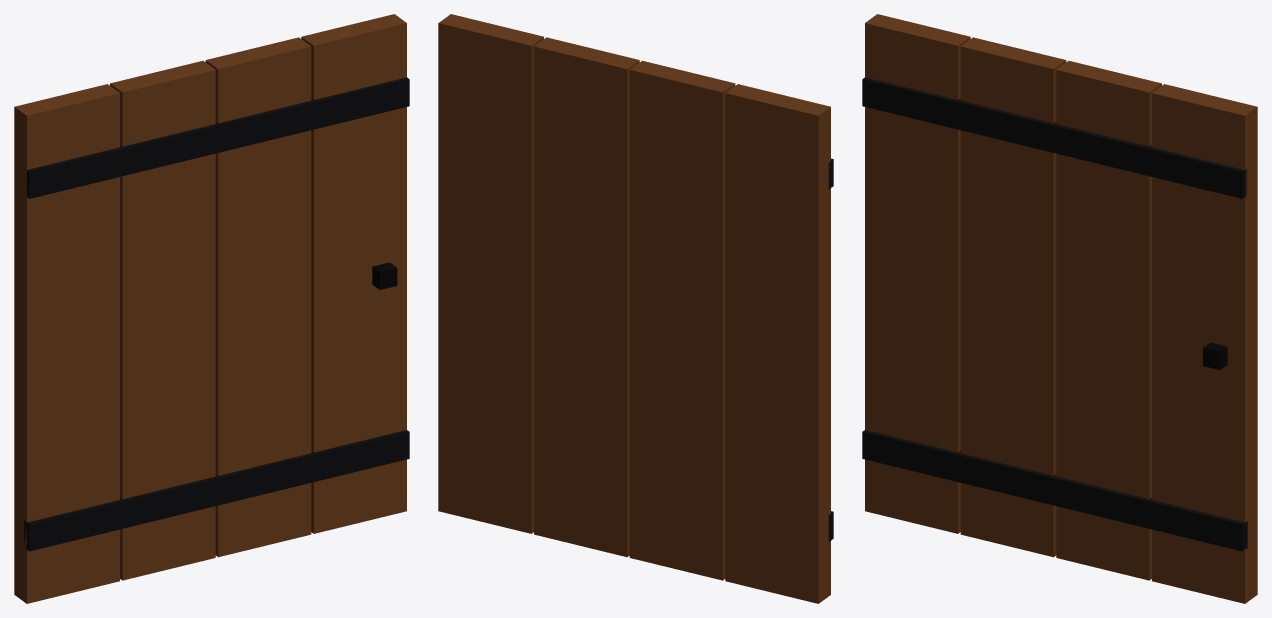
Rendered from PuertaLateralFuera.obj.
3 renders of one model, left to right at view 1: azimuth 30°, elevation 25°; view 2: azimuth 150°, elevation 25°; view 3: azimuth 330°, elevation 25°, orthographic.
Visible parts, largest first — view 1: Puerta_Establo1; view 2: Puerta_Establo1; view 3: Puerta_Establo1.
Part boxes in pixels (x1,y1,x2,y2): Puerta_Establo1: (14, 14, 409, 603); Puerta_Establo1: (438, 14, 833, 603); Puerta_Establo1: (862, 14, 1257, 603).
Size of the model in its own units: 1.76 by 2.16 by 0.16.
